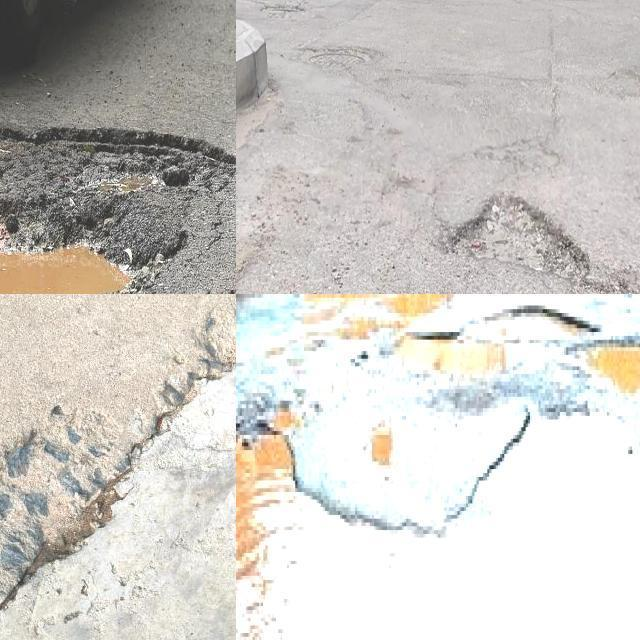Pothole: (236, 416, 640, 640), (0, 126, 236, 294), (0, 407, 146, 609), (300, 294, 594, 378), (455, 186, 593, 284)
